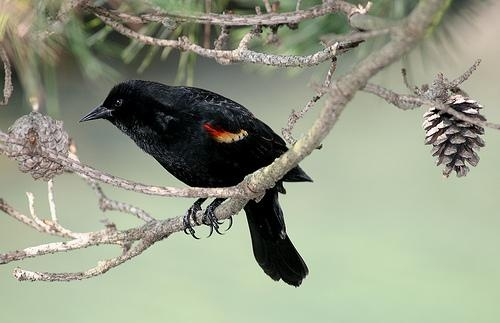bird: (79, 78, 310, 286)
